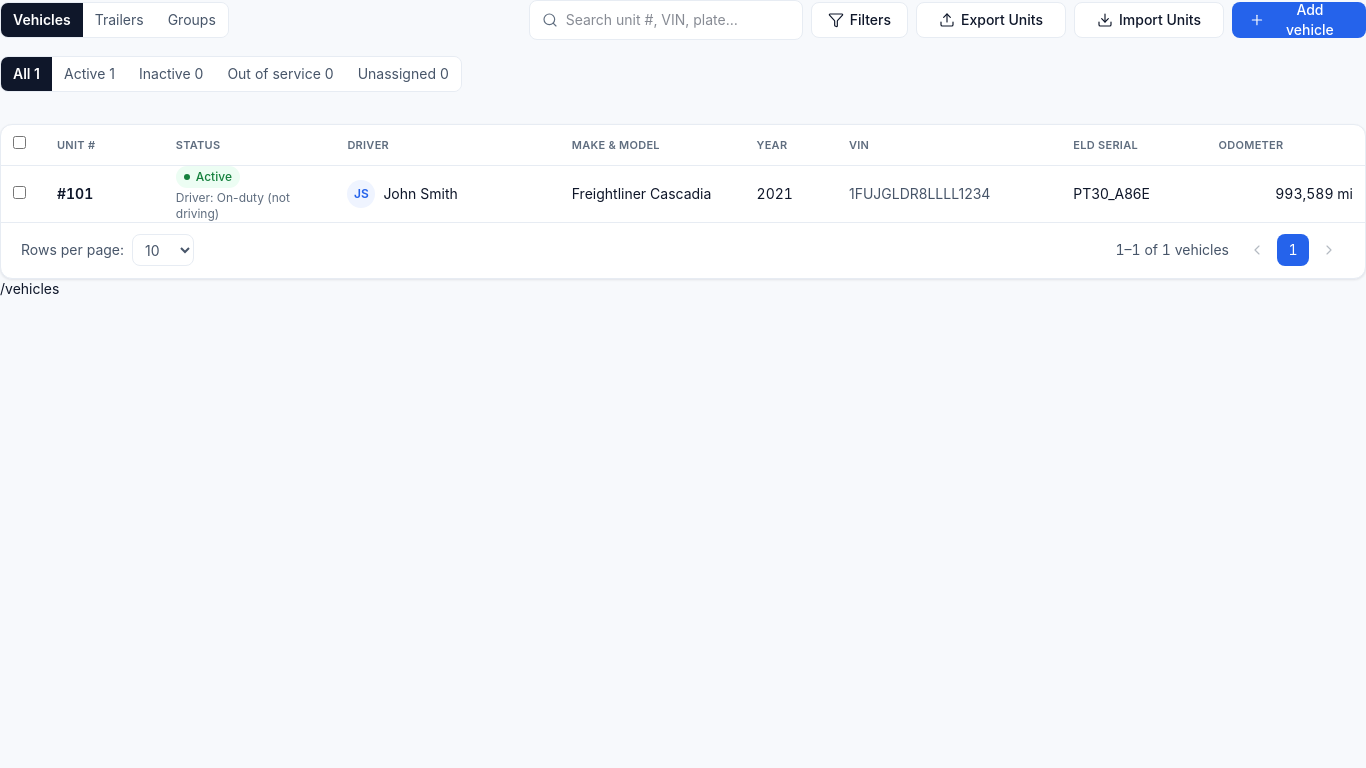
Scenario: W-03 Vehicles › 11.23 Filters — applying a status filter narrows the table, shows a chip and Clear all resets it
The width and height of the screenshot is (1366, 768).
Expected: the text "#101" is shown, top-left (57, 184), bottom-right (93, 202)
Click the button "Filters" at (859, 20), box top-left (811, 2), bottom-right (908, 38)
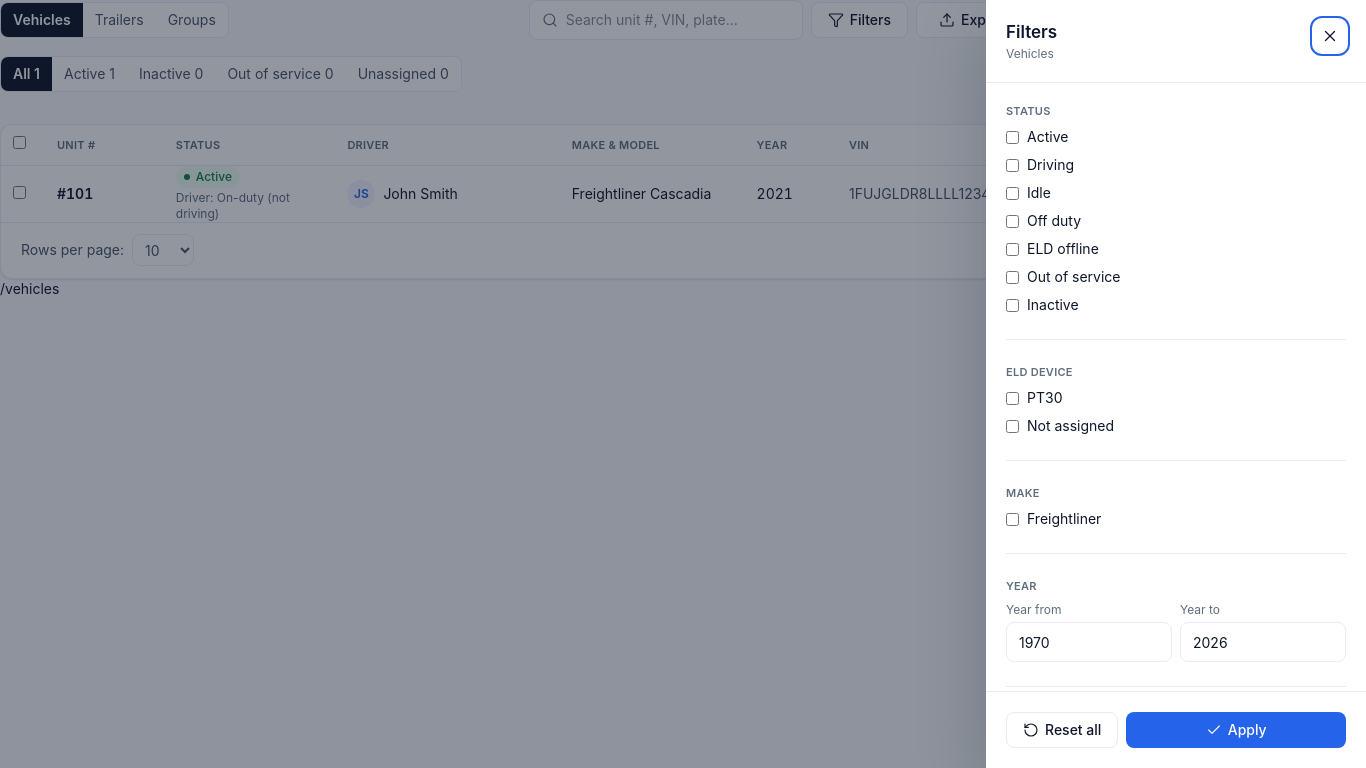
Click the text "Inactive" at (1042, 304), box top-left (1006, 296), bottom-right (1079, 313)
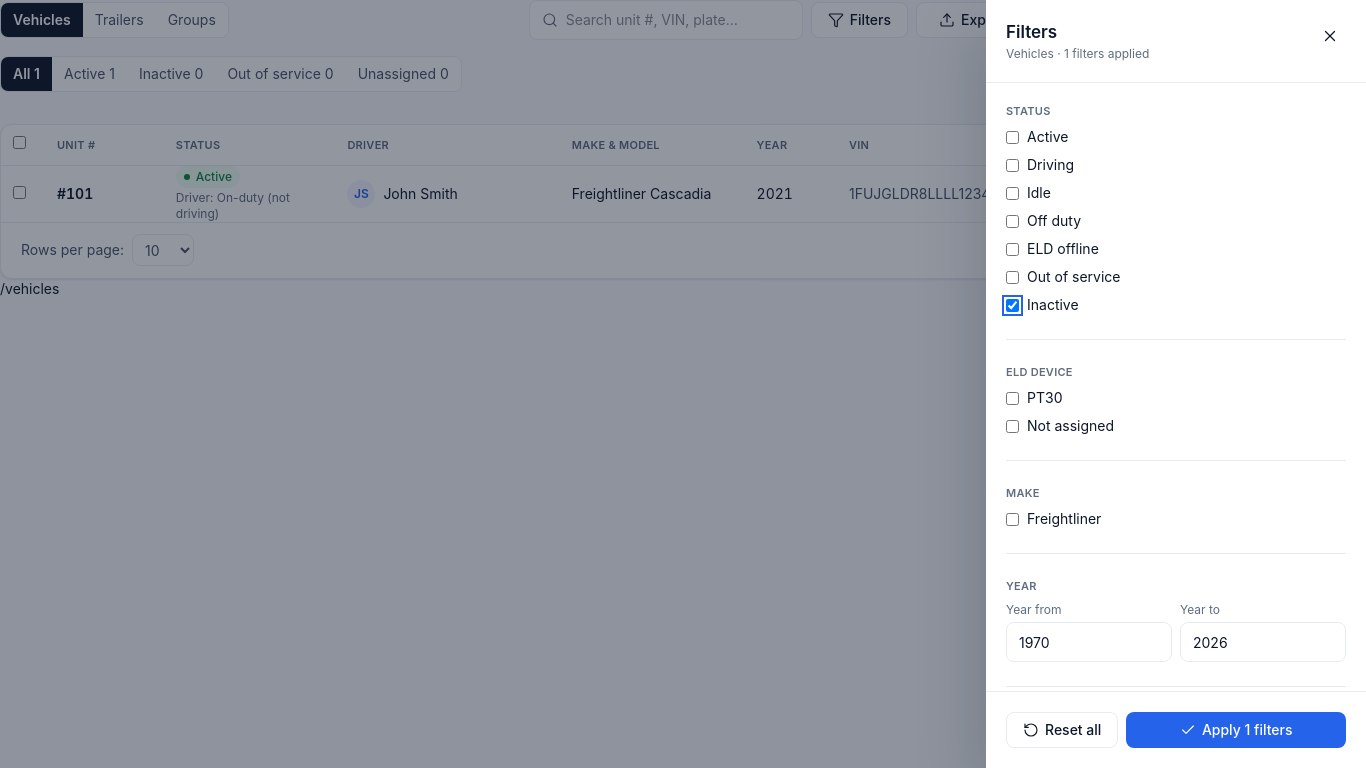
Click the button "Apply 1 filters" at (1236, 730), box top-left (1126, 712), bottom-right (1346, 748)
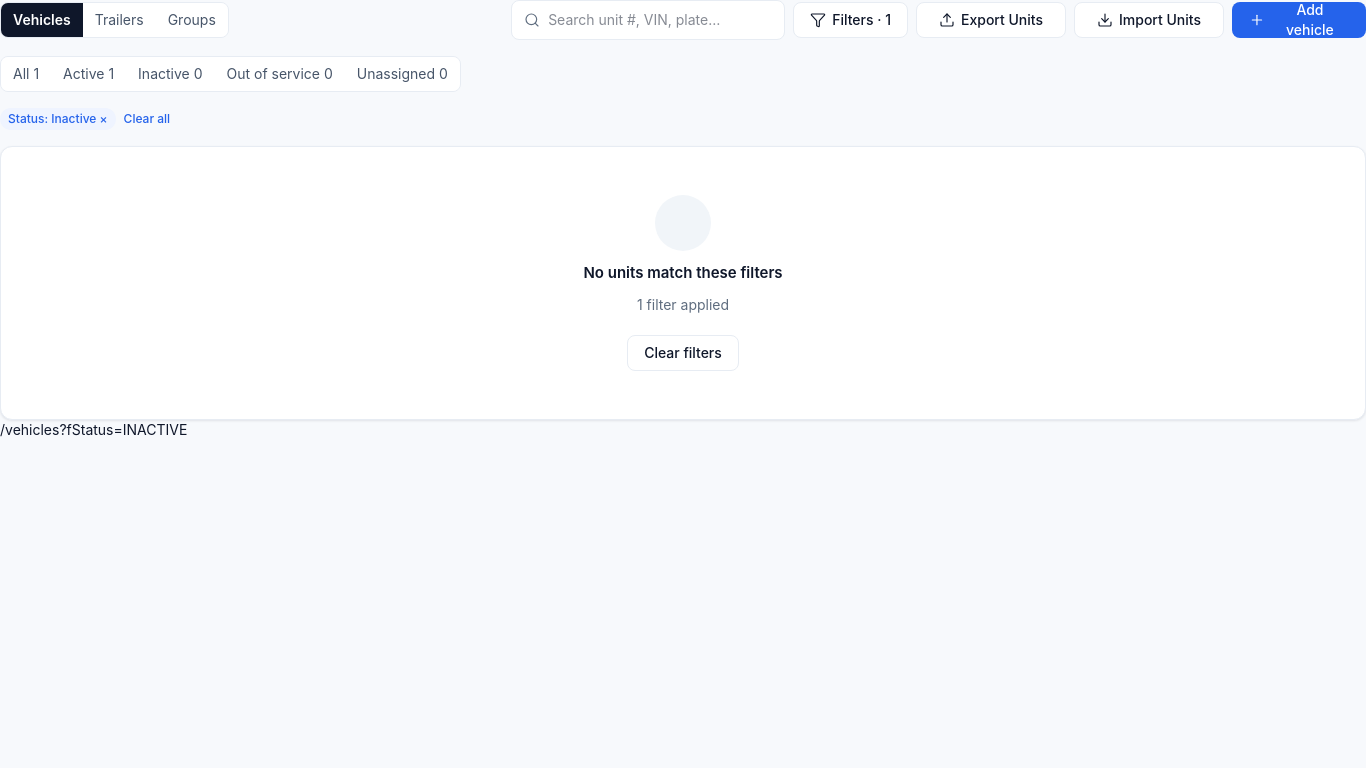
Expected: the heading "No units match these filters" is shown, top-left (583, 263), bottom-right (783, 283)
Expected: the text "1 filter applied" is shown, top-left (637, 295), bottom-right (729, 315)
Expected: the button "Filters · 1" is shown, top-left (793, 2), bottom-right (908, 38)
Click the button "Clear all" at (147, 119), box top-left (124, 111), bottom-right (170, 127)
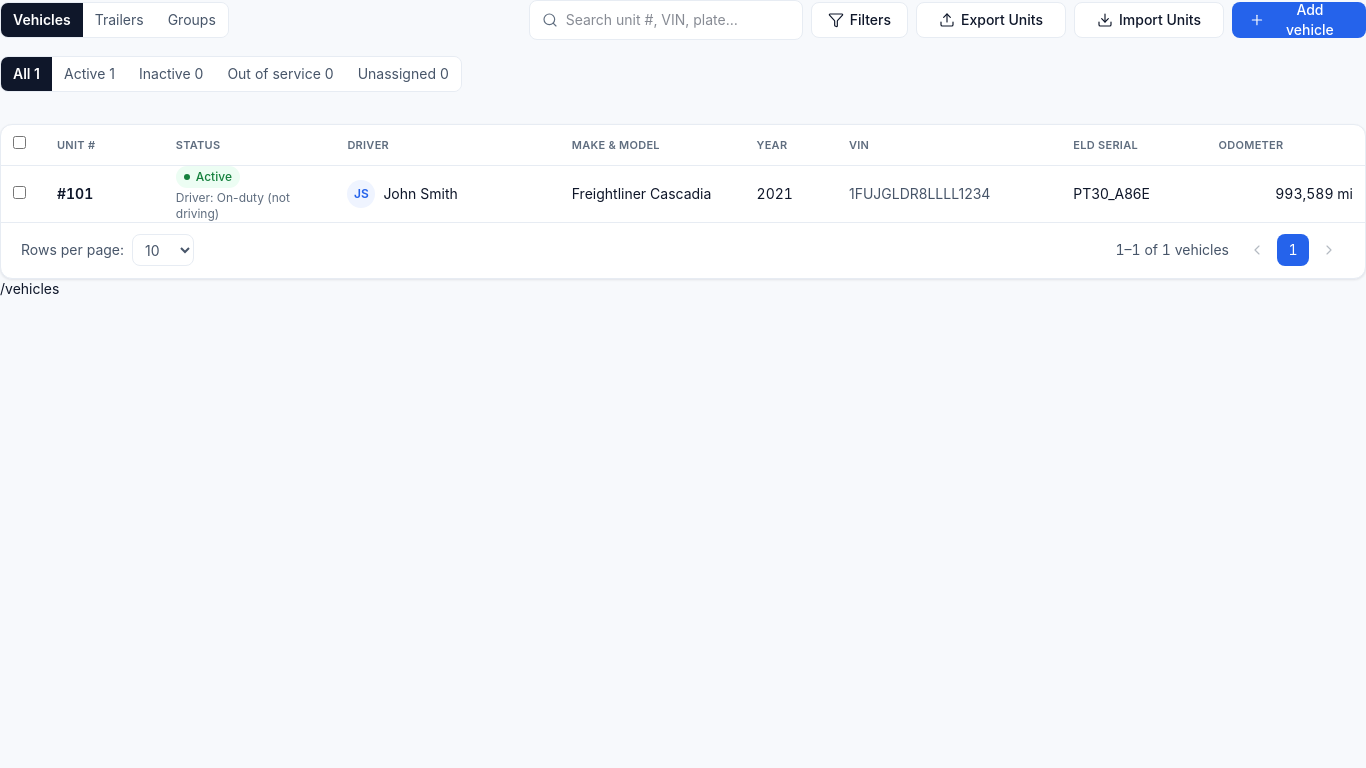
Expected: the button "Filters" is shown, top-left (811, 2), bottom-right (908, 38)
Expected: the text "#101" is shown, top-left (57, 184), bottom-right (93, 202)
